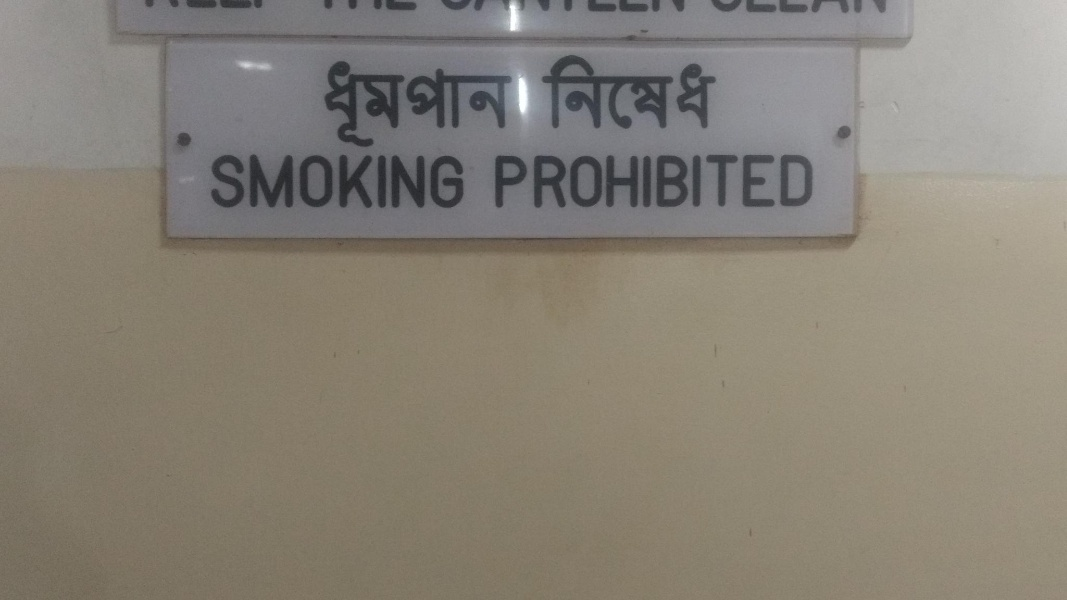text: (337, 59, 352, 147), (353, 59, 368, 147), (369, 59, 384, 147), (385, 59, 400, 147), (401, 59, 416, 147), (417, 59, 432, 147), (433, 59, 448, 147), (449, 59, 464, 147), (465, 59, 480, 147), (481, 59, 496, 147), (497, 59, 512, 147), (545, 55, 560, 129), (561, 55, 576, 129), (577, 55, 592, 129), (593, 55, 608, 129), (609, 55, 624, 129), (625, 55, 640, 129), (641, 55, 656, 129), (657, 55, 672, 129), (673, 55, 688, 129), (689, 55, 704, 129), (324, 59, 336, 147), (705, 55, 718, 129), (497, 151, 512, 210), (513, 151, 528, 210), (529, 151, 544, 210), (545, 151, 560, 210), (561, 151, 576, 210), (577, 151, 592, 210), (593, 151, 608, 210), (609, 151, 624, 210), (625, 151, 640, 210), (641, 151, 656, 210), (657, 151, 672, 210), (673, 151, 688, 210), (689, 151, 704, 210), (705, 151, 720, 210), (721, 151, 736, 210), (737, 151, 752, 210), (753, 151, 768, 210), (769, 151, 784, 210), (785, 151, 800, 210), (225, 154, 240, 211), (241, 154, 256, 211), (257, 154, 272, 211), (273, 154, 288, 211), (289, 154, 304, 211), (305, 154, 320, 211), (321, 154, 336, 211), (337, 154, 352, 211), (353, 154, 368, 211), (369, 154, 384, 211), (385, 154, 400, 211), (401, 154, 416, 211), (417, 154, 432, 211), (433, 154, 448, 211), (449, 154, 464, 211), (801, 151, 815, 210), (210, 154, 224, 211), (177, 1, 192, 22), (193, 1, 208, 22), (209, 1, 224, 22), (225, 1, 240, 22), (241, 1, 256, 22), (257, 1, 272, 22), (273, 1, 288, 22), (289, 1, 304, 22), (305, 1, 320, 22), (321, 1, 336, 22), (337, 1, 352, 22), (353, 1, 368, 22), (369, 1, 384, 22), (385, 1, 400, 22), (401, 1, 416, 22), (417, 1, 432, 22), (433, 1, 448, 22), (449, 1, 464, 22), (465, 1, 480, 22), (481, 1, 496, 22), (497, 1, 512, 22), (513, 1, 528, 22), (529, 1, 544, 22), (545, 1, 560, 22), (561, 1, 576, 22), (577, 1, 592, 22), (593, 1, 608, 22), (609, 1, 624, 22), (625, 1, 640, 22), (641, 1, 656, 22), (657, 1, 672, 22), (673, 1, 688, 22), (689, 1, 704, 22), (705, 1, 720, 22), (721, 1, 736, 22), (737, 1, 752, 22), (753, 1, 768, 22), (769, 1, 784, 22), (785, 1, 800, 22), (801, 1, 816, 22), (817, 1, 832, 22), (833, 1, 848, 22), (849, 1, 864, 22), (865, 1, 880, 22), (162, 1, 176, 22), (881, 1, 889, 22), (542, 55, 544, 129), (465, 154, 467, 211), (495, 151, 496, 210)
